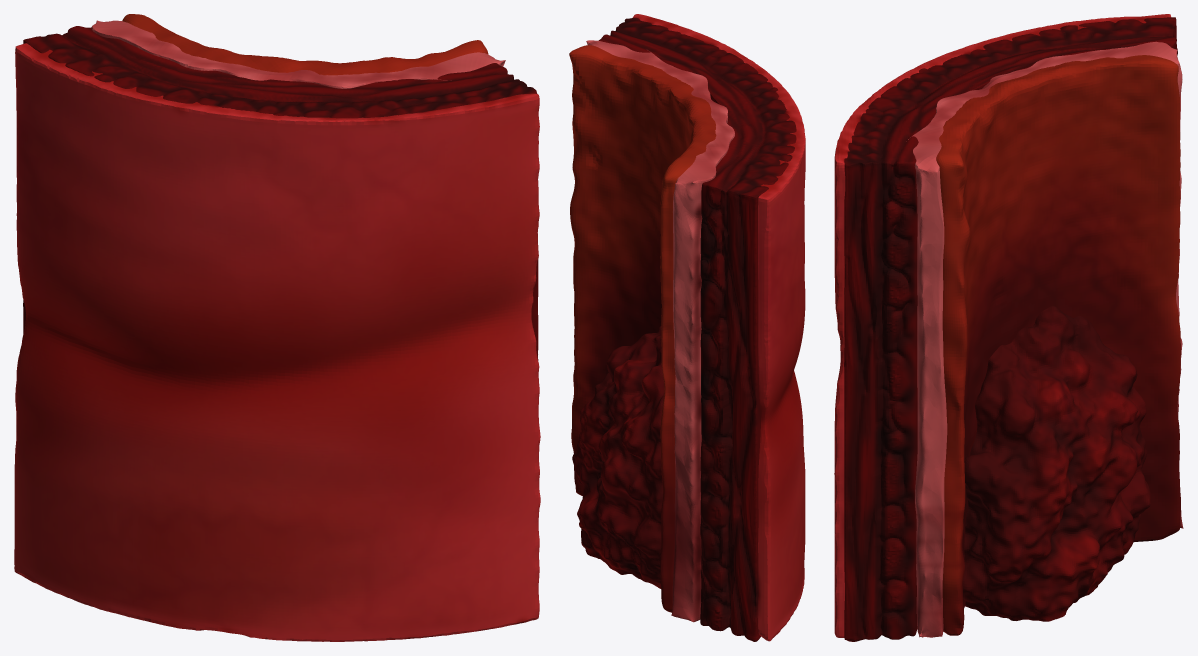
File: stage-2-s-v1.glb
The picture shows the model from 3 angles, left to right: view 1: azimuth 30°, elevation 25°; view 2: azimuth 150°, elevation 25°; view 3: azimuth 270°, elevation 25°; orthographic projection. The views are drawn at different scales.
Visible parts, largest first — view 1: PM3D_Cylinder3D2; view 2: PM3D_Cylinder3D2; view 3: PM3D_Cylinder3D2.
Part boxes in pixels (box(x1,y1,x2,y2)): PM3D_Cylinder3D2: box(14, 14, 540, 641); PM3D_Cylinder3D2: box(569, 14, 805, 641); PM3D_Cylinder3D2: box(834, 14, 1183, 641).
Bounding box in the file's own units: 0.8474 × 1.26 × 0.7954.
1 material, 1 textured.
